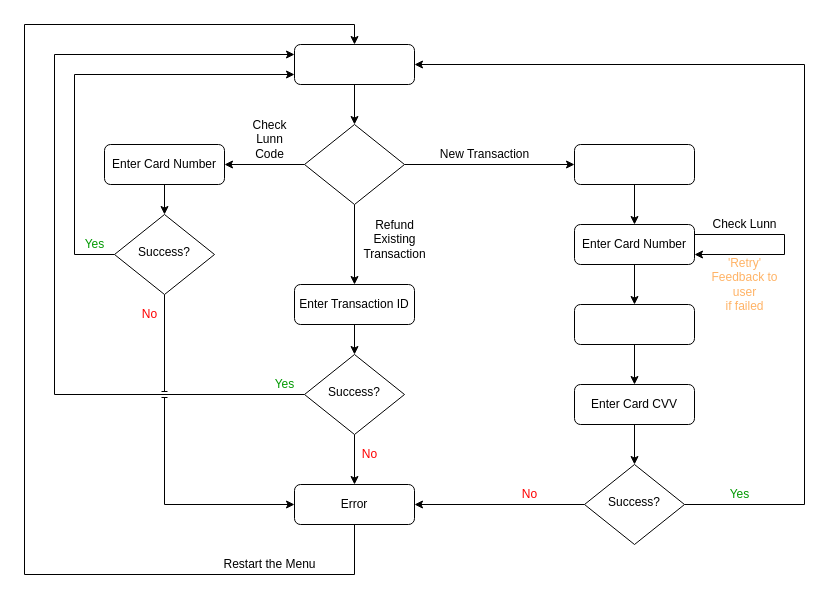
This 830x600 diagram has some shape labels left out. The shapes that lost their labels are listed below. From the top down, each one's centre as x and y in pixels, then its label:
pixel 354 64: Start
pixel 354 164: Which Action?
pixel 634 164: Enter Currency Amount
pixel 634 324: Enter Expiry Date
